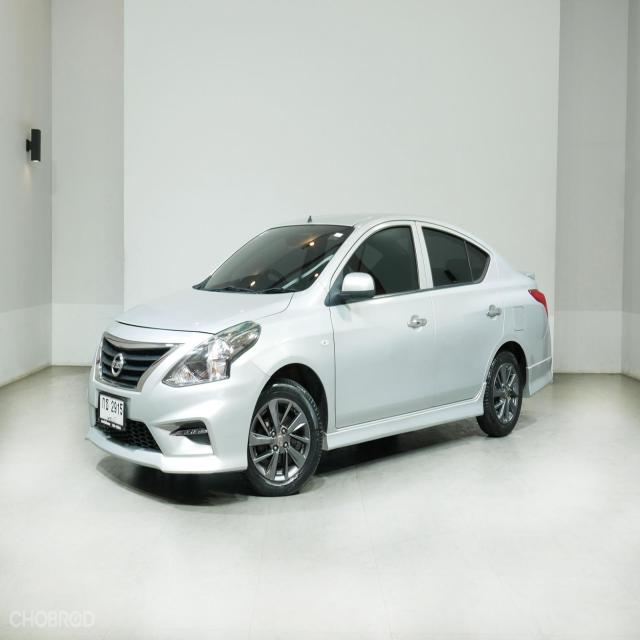license_plate: (96, 387, 127, 432)
